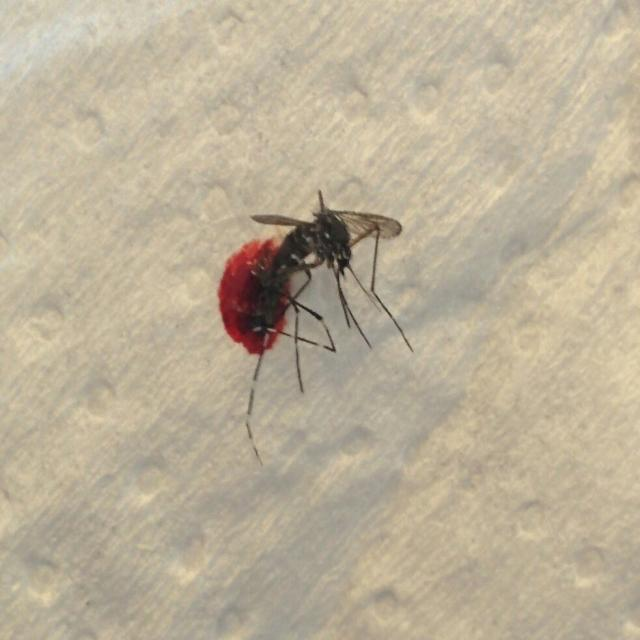albopictus: (225, 168, 412, 455)
